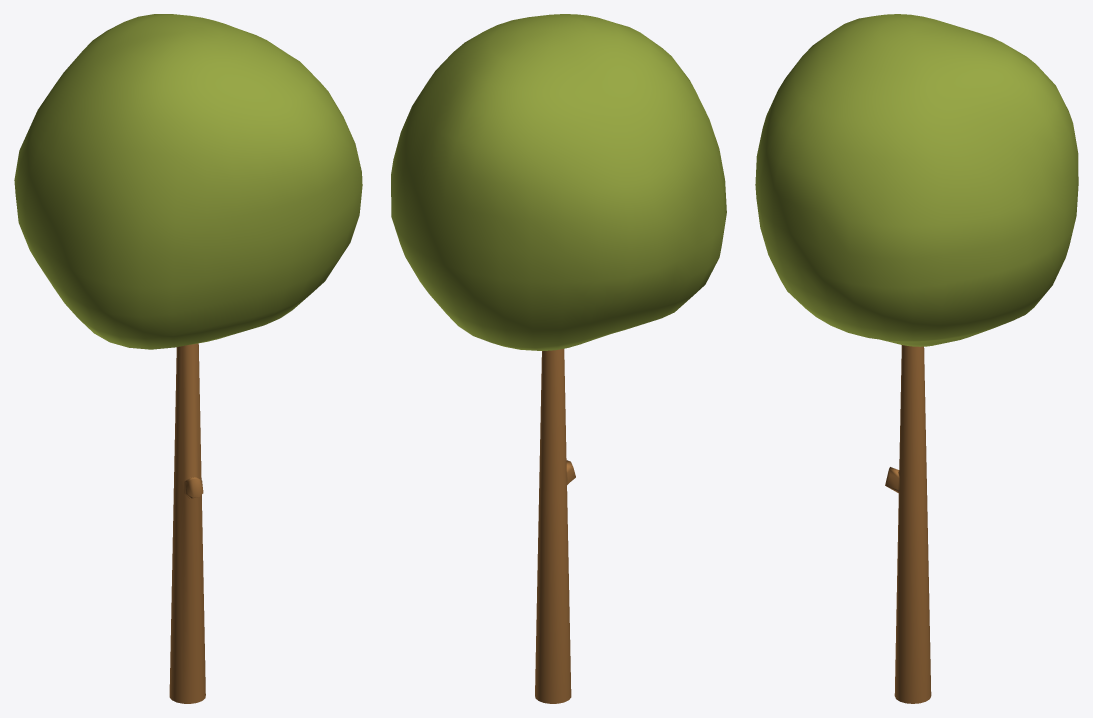
The model's file is Tree_01.fbx.
3 views of the same model, side by side, from view 1: azimuth 30°, elevation 25°; view 2: azimuth 150°, elevation 25°; view 3: azimuth 270°, elevation 25° (orthographic).
Visible parts, largest first — view 1: Tree 01 Main; view 2: Tree 01 Main; view 3: Tree 01 Main.
Boxes of the visible parts, x1,y1,x2,y2 form: Tree 01 Main: (14, 14, 362, 703); Tree 01 Main: (391, 14, 726, 703); Tree 01 Main: (755, 14, 1078, 703).
Bounding box in the file's own units: 145 × 310 × 137.
